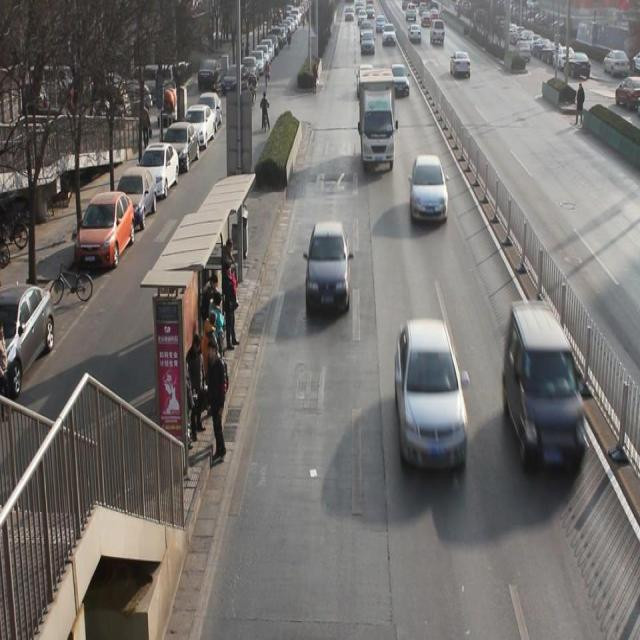bus: (357, 75, 396, 175)
car: (506, 303, 590, 486), (392, 318, 470, 482), (304, 226, 352, 311), (408, 155, 451, 228), (390, 61, 410, 100), (450, 50, 473, 78), (360, 33, 376, 56), (381, 26, 397, 45)
